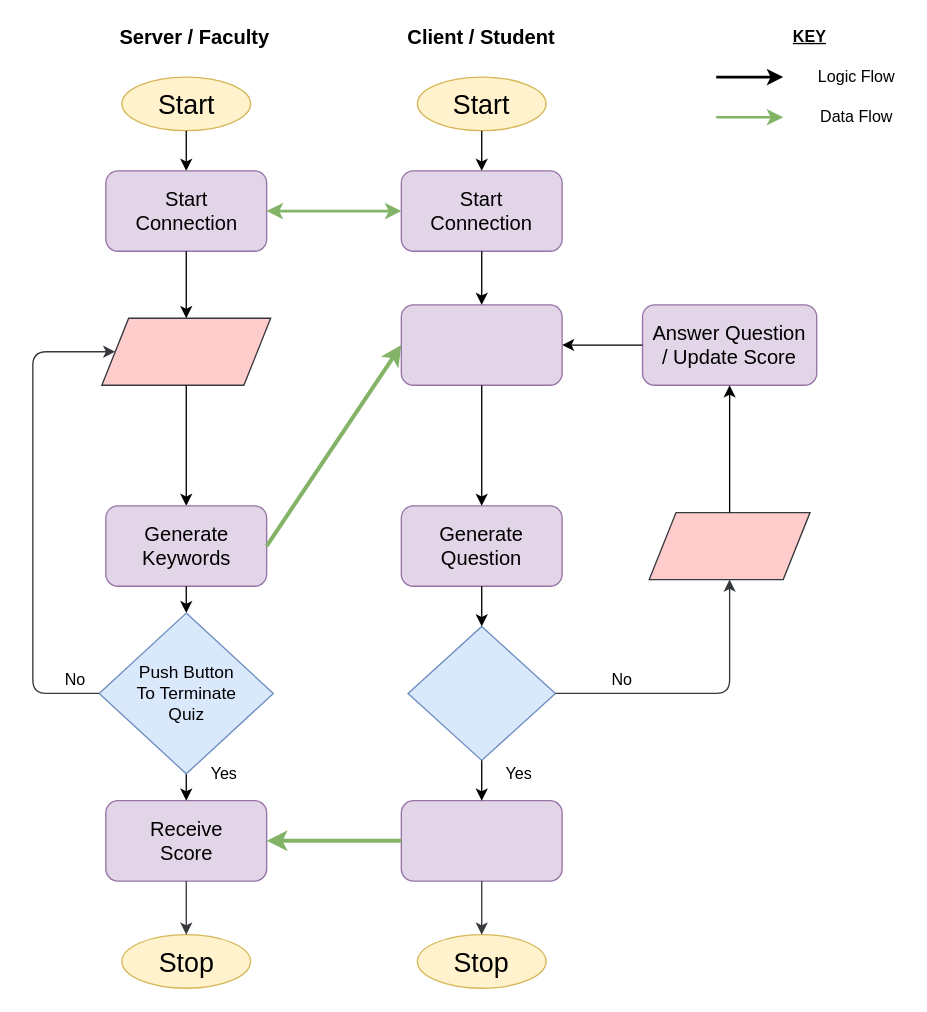
This 927x1012 diagram has some shape labels left out. The shapes that lost their labels are listed below. From the top down, each one's centre as x and y in pixels, then its label:
the point at 185,351: Listen
the point at 481,344: Receive Keywords
the point at 729,545: Receive Input
the point at 481,692: Quiz Terminated
the point at 481,840: Send Score
